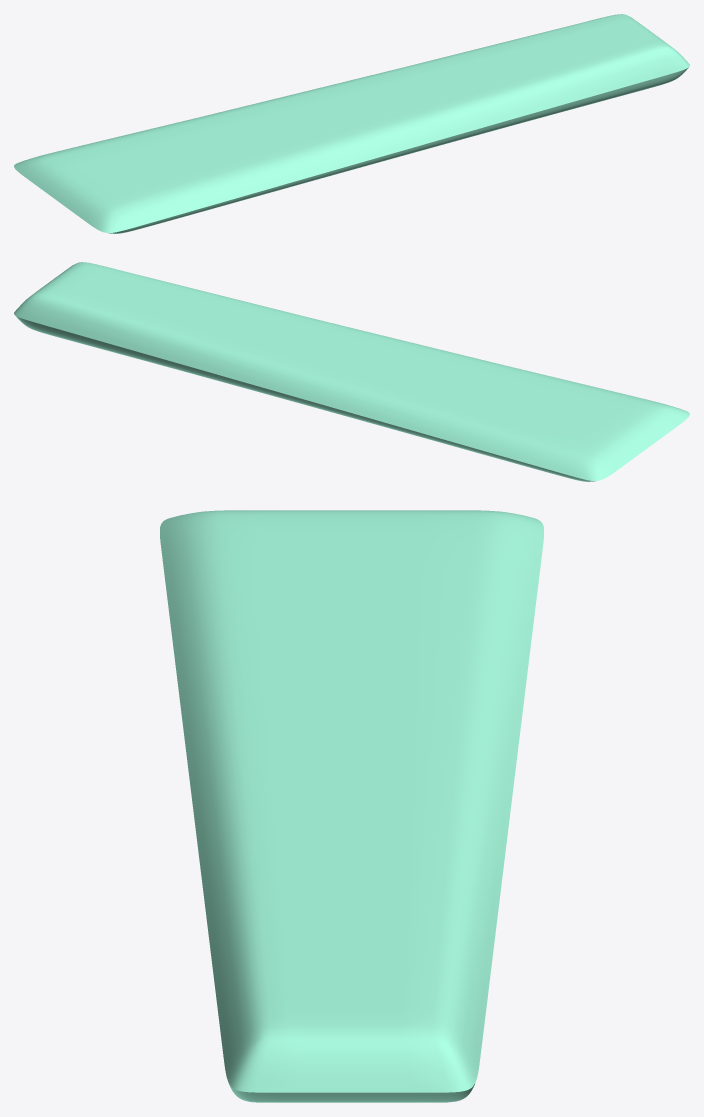
File: 282_トーンヘラ.glb
The picture shows the model from 3 angles, top to bottom: view 1: azimuth 30°, elevation 25°; view 2: azimuth 150°, elevation 25°; view 3: azimuth 270°, elevation 25°; orthographic projection. The views are drawn at different scales.
Parts seen in each view (by area): view 1: Body1; view 2: Body1; view 3: Body1.
Part boxes in pixels (x1=…): Body1: x1=14, y1=14, x2=689, y2=233; Body1: x1=14, y1=262, x2=689, y2=481; Body1: x1=160, y1=510, x2=543, y2=1102.
Size of the model in its own units: 0.18 by 0.0102 by 0.0493.
